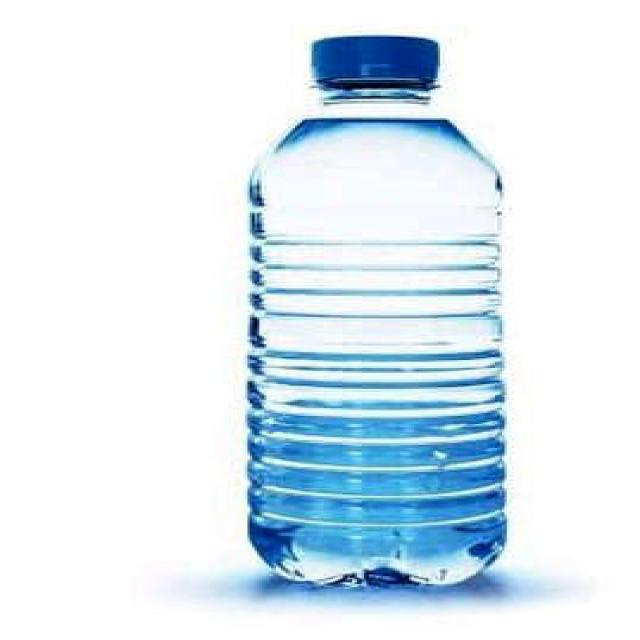bottle: (236, 32, 520, 592)
